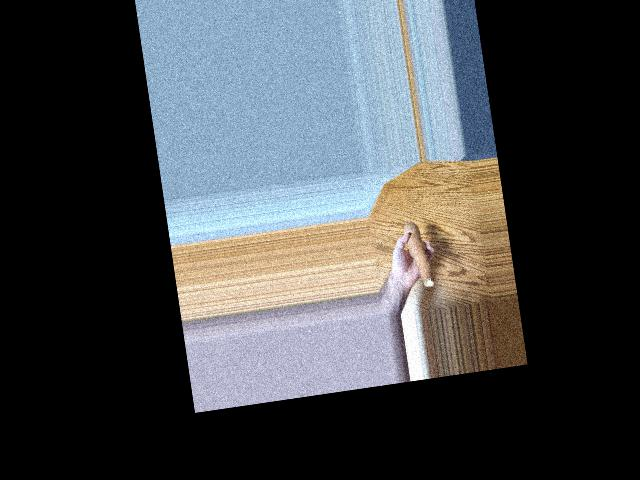sweet_potato: (405, 216, 436, 294)
